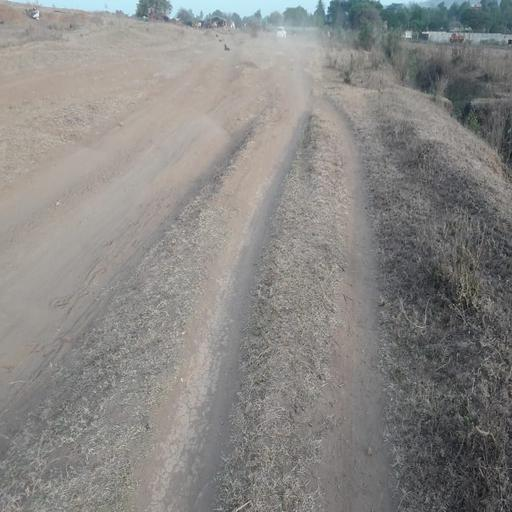vehicle_track: (1, 95, 238, 429), (137, 112, 307, 512), (318, 94, 402, 512), (0, 75, 192, 243)
